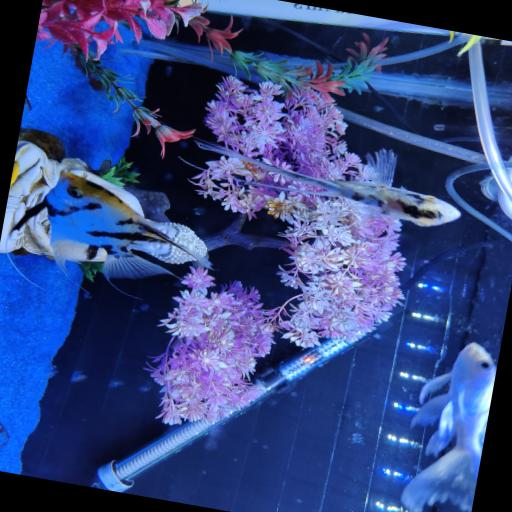Fish: (194, 138, 459, 225), (29, 170, 209, 279), (401, 342, 495, 511)
